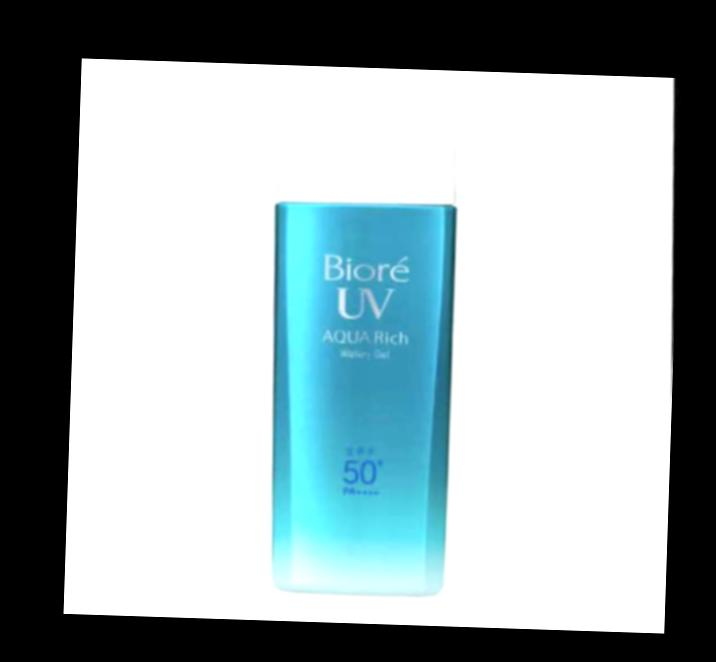cosmetic: (252, 82, 469, 599)
